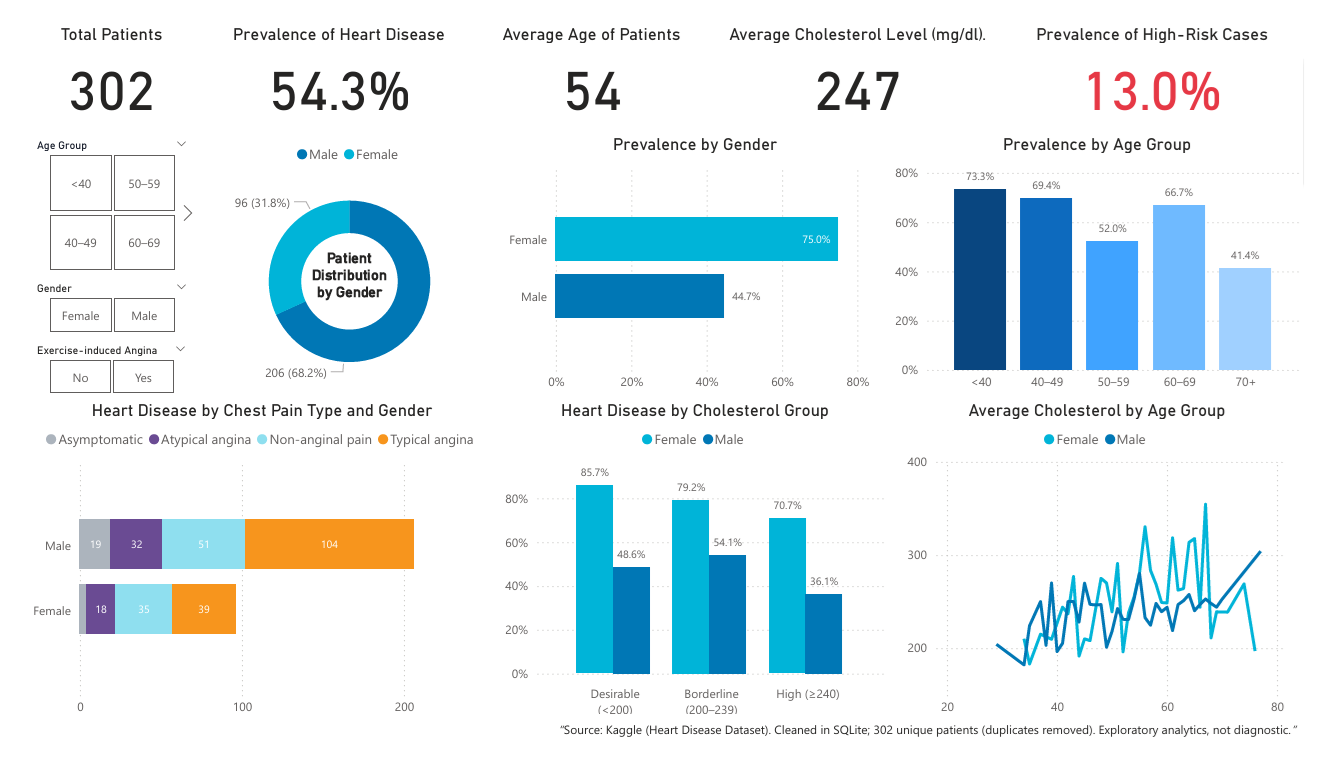

Layout of this report page (visuals, bound fields, positions):
{"tool":"powerbi","page":{"name":"Clinical Heart Disease — SQL + Power BI (302 unique patients)","canvas":[1280,720],"ordinal":0},"visuals":[{"type":"card","title":"Total Patients","fields":{"Values":["heart.Total Patients"]},"box":[0,0,175,101],"z":0},{"type":"card","title":"Average Cholesterol Level (mg/dl).","fields":{"Values":["heart.Avg Cholesterol"]},"box":[693,0,281,101],"z":1000},{"type":"card","title":"Average Age of Patients","fields":{"Values":["heart.Avg Age"]},"box":[464,0,207,101],"z":2000},{"type":"card","title":"Prevalence of Heart Disease","fields":{"Values":["heart.% With Disease"]},"box":[202,0,226,101],"z":3000},{"type":"barChart","title":"Prevalence by Gender","fields":{"Category":["heart.Sex Label"],"Y":["heart.% With Disease"]},"box":[476,110,390,266],"z":4000},{"type":"clusteredColumnChart","title":"Prevalence by Age Group","fields":{"Y":["heart.% With Disease"],"Category":["heart.AgeBand"]},"box":[866,110,414,266],"z":5000},{"type":"lineChart","title":"Average Cholesterol by Age Group","fields":{"Category":["heart.Age"],"Y":["heart.Avg Cholesterol"],"Series":["heart.Sex Label"]},"box":[878,376,390,325],"z":6000},{"type":"barChart","title":"Heart Disease by Chest Pain Type and Gender","fields":{"Category":["heart.Sex Label"],"Series":["heart.ChestPain Label"],"Y":["heart.Total Patients"]},"box":[0,376,476,325],"z":7000},{"type":"clusteredColumnChart","title":"Heart Disease by Cholesterol Group","fields":{"Category":["heart.Chol Category"],"Y":["heart.% With Disease"],"Series":["heart.Sex Label"]},"box":[476,376,390,325],"z":8000},{"type":"card","title":"Prevalence of High-Risk Cases","fields":{"Values":["heart.High-Risk % (safe)"]},"box":[1007,0,242,101],"z":9000},{"type":"donutChart","title":"Patient Distribution by Gender.","fields":{"Category":["heart.Sex Label"],"Y":["heart.Total Patients"]},"box":[175,110,301,266],"z":10000},{"type":"slicer","fields":{"Values":["heart.AgeBand"]},"box":[0,110,175,143],"z":11000},{"type":"slicer","fields":{"Values":["heart.Sex Label"]},"box":[0,253,175,62],"z":12000},{"type":"slicer","fields":{"Values":["heart.ExerciseAngina Label"]},"box":[0,315,174,61],"z":13000},{"type":"textbox","box":[278,220,95,66],"z":13001},{"type":"textbox","box":[527,691,753,29],"z":13002}]}

Visuals, with their boxes in screenshot pixels (x1, y1, x2, y2), scaled from the page's 1280x720 canvas onto the 1324x767 screenshot:
"Total Patients" card: left=0, top=0, right=181, bottom=108
"Average Cholesterol Level (mg/dl)." card: left=717, top=0, right=1007, bottom=108
"Average Age of Patients" card: left=480, top=0, right=694, bottom=108
"Prevalence of Heart Disease" card: left=209, top=0, right=443, bottom=108
"Prevalence by Gender" barChart: left=492, top=117, right=896, bottom=401
"Prevalence by Age Group" clusteredColumnChart: left=896, top=117, right=1323, bottom=401
"Average Cholesterol by Age Group" lineChart: left=908, top=401, right=1312, bottom=747
"Heart Disease by Chest Pain Type and Gender" barChart: left=0, top=401, right=492, bottom=747
"Heart Disease by Cholesterol Group" clusteredColumnChart: left=492, top=401, right=896, bottom=747
"Prevalence of High-Risk Cases" card: left=1042, top=0, right=1292, bottom=108
"Patient Distribution by Gender." donutChart: left=181, top=117, right=492, bottom=401
slicer - heart.AgeBand: left=0, top=117, right=181, bottom=270
slicer - heart.Sex Label: left=0, top=270, right=181, bottom=336
slicer - heart.ExerciseAngina Label: left=0, top=336, right=180, bottom=401
textbox: left=288, top=234, right=386, bottom=305
textbox: left=545, top=736, right=1323, bottom=766
